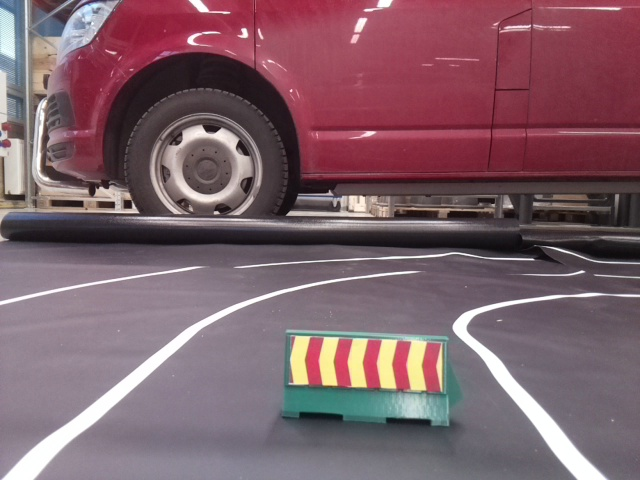ClosedRoadStand: (287, 329, 447, 422)
